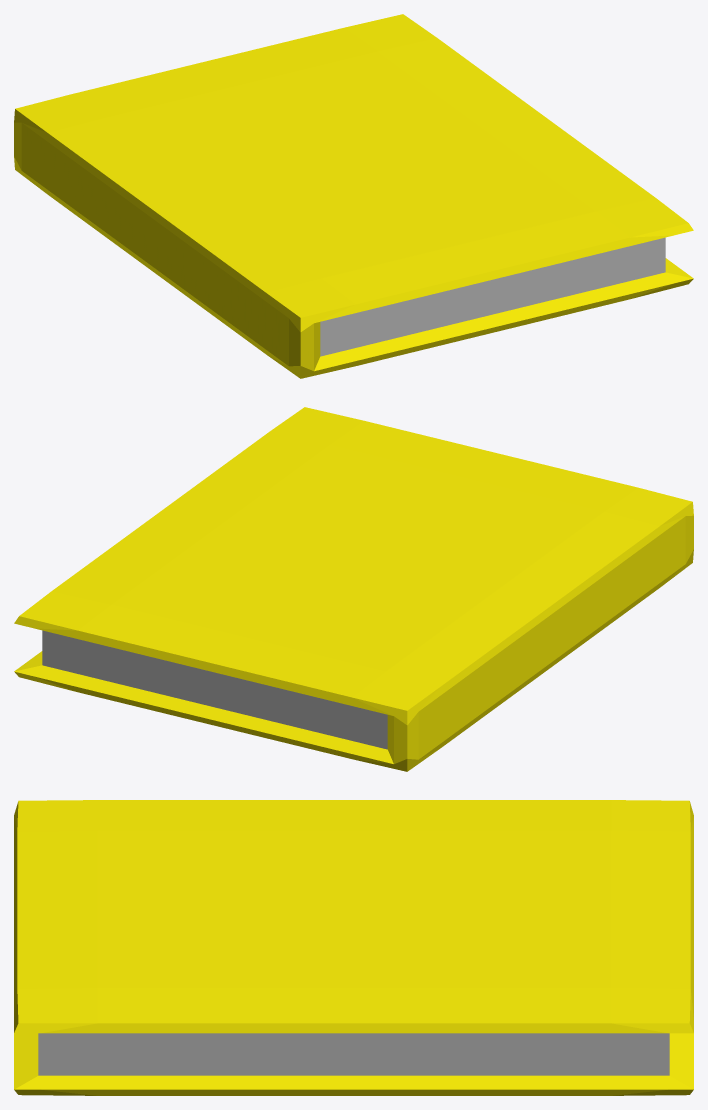
File: BookVar2.fbx
3 views of the same model, one above another, from view 1: azimuth 30°, elevation 25°; view 2: azimuth 150°, elevation 25°; view 3: azimuth 270°, elevation 25° (orthographic). The views are drawn at different scales.
Visible parts, largest first — view 1: Book.002; view 2: Book.002; view 3: Book.002.
Part boxes in pixels (bbox=[...]): Book.002: bbox=[14, 14, 693, 378]; Book.002: bbox=[14, 407, 693, 771]; Book.002: bbox=[14, 800, 693, 1095].
Size of the model in its own units: 280 by 220 by 34.
